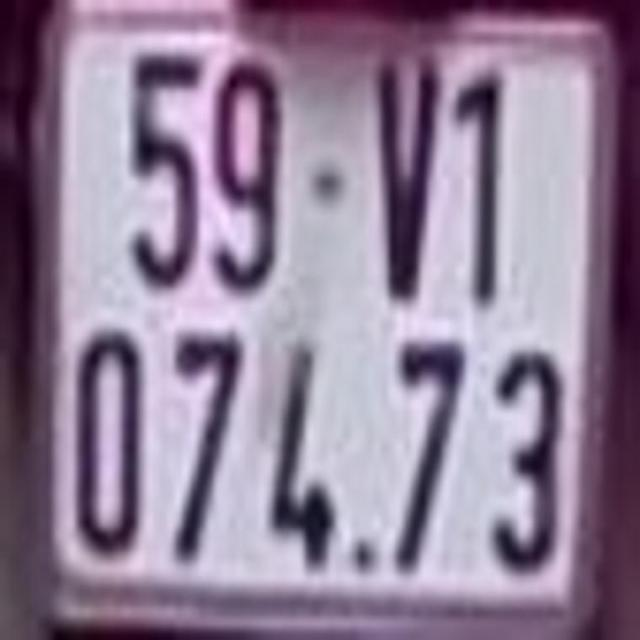0: (67, 308, 144, 566)
1: (450, 49, 512, 313)
3: (490, 342, 562, 572)
4: (264, 347, 343, 568)
5: (126, 50, 203, 288)
7: (392, 338, 468, 576), (170, 331, 243, 564)
9: (206, 51, 286, 296)
V: (372, 48, 442, 301)
